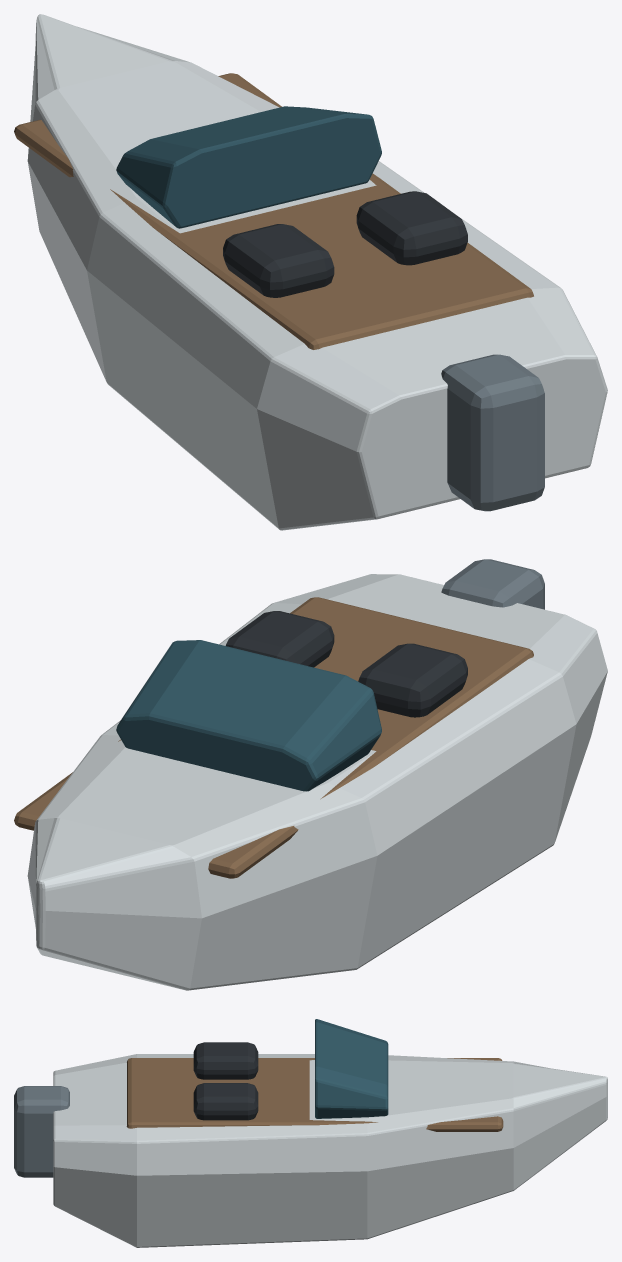
The model's file is Kestrel_Boat.fbx.
3 renders of one model, top to bottom at view 1: azimuth 30°, elevation 25°; view 2: azimuth 150°, elevation 25°; view 3: azimuth 270°, elevation 25°, orthographic. The views are drawn at different scales.
Parts seen in each view (by area): view 1: Body.011; view 2: Body.011; view 3: Body.011.
Part boxes in pixels (bbox=[...]): Body.011: bbox=[14, 14, 607, 530]; Body.011: bbox=[14, 559, 607, 990]; Body.011: bbox=[14, 1019, 607, 1247].
Size of the model in its own units: 2.2 by 1.71 by 5.68.
